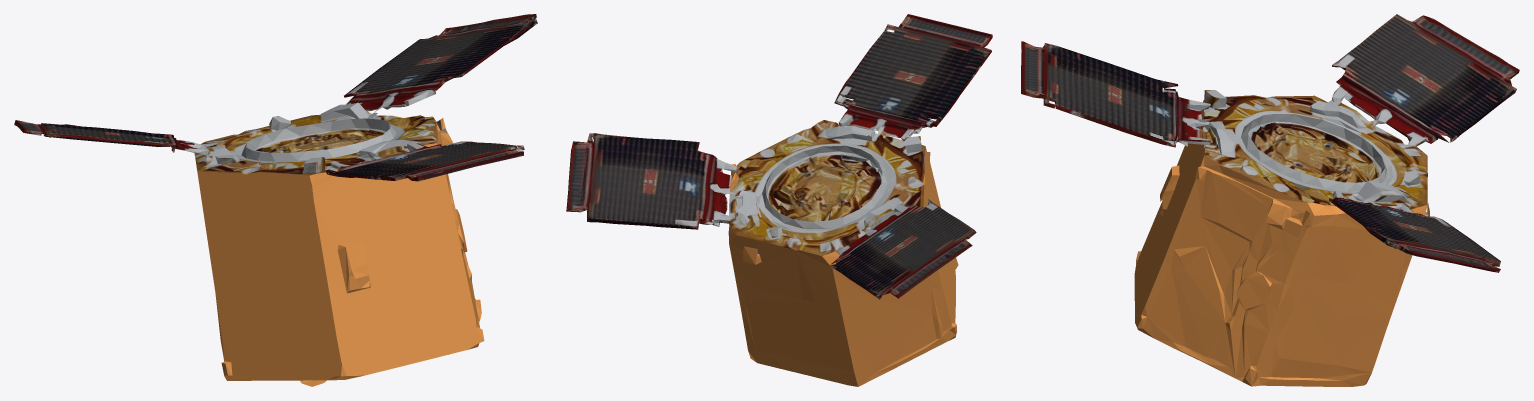
The model's file is gokturk-2.glb.
The picture shows the model from 3 angles, left to right: view 1: azimuth 30°, elevation 25°; view 2: azimuth 150°, elevation 25°; view 3: azimuth 270°, elevation 25°; orthographic projection. The views are drawn at different scales.
Parts seen in each view (by area): view 1: tripo_node_cf55fba7-bfbb-4657-ba46-d059cbfd3604; view 2: tripo_node_cf55fba7-bfbb-4657-ba46-d059cbfd3604; view 3: tripo_node_cf55fba7-bfbb-4657-ba46-d059cbfd3604.
Part boxes in pixels (<box>): tripo_node_cf55fba7-bfbb-4657-ba46-d059cbfd3604: <box>14,14,537,386</box>; tripo_node_cf55fba7-bfbb-4657-ba46-d059cbfd3604: <box>566,14,992,386</box>; tripo_node_cf55fba7-bfbb-4657-ba46-d059cbfd3604: <box>1021,14,1519,386</box>.
Bounding box in the file's own units: 1 × 0.5757 × 0.8963.
Materials: 2 (1 with a texture image).
